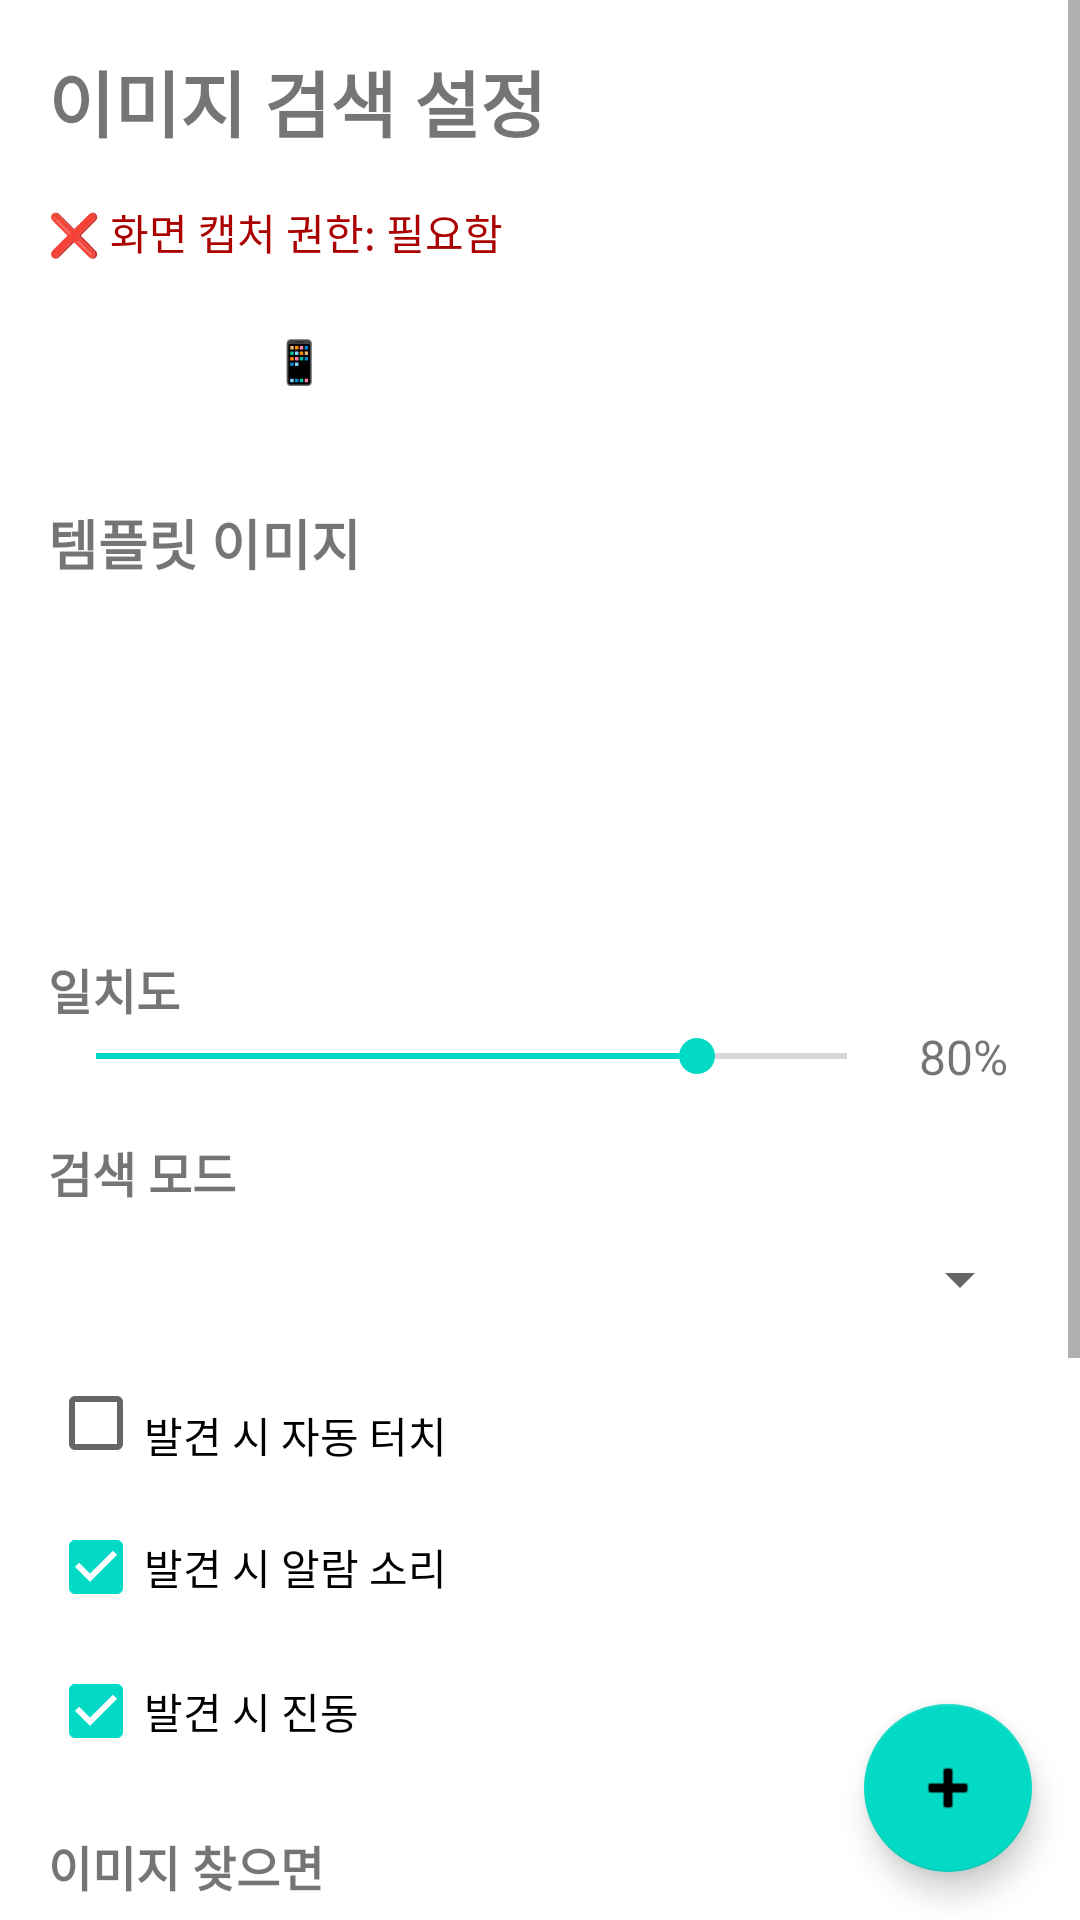

Icons on this 1080px x 1920px Android screen, each with the point to tap as point (x, y):
템플릿 추가: point (948, 1788)
